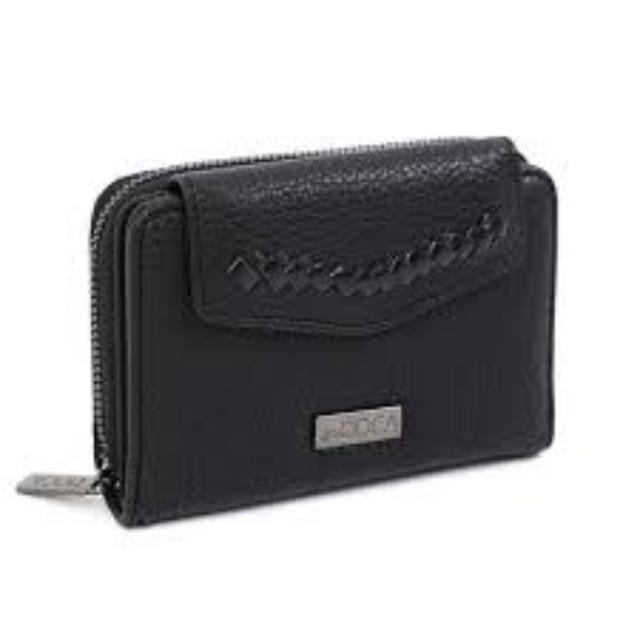wallet: (58, 116, 622, 546)
